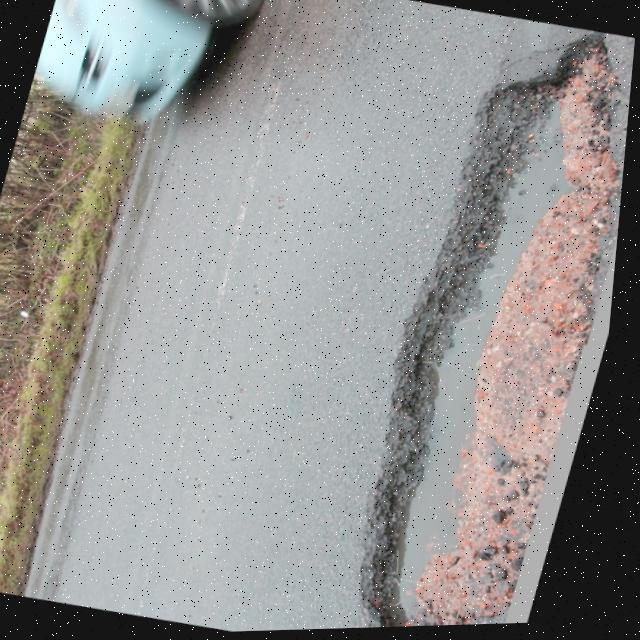pothole: (322, 13, 638, 632)
